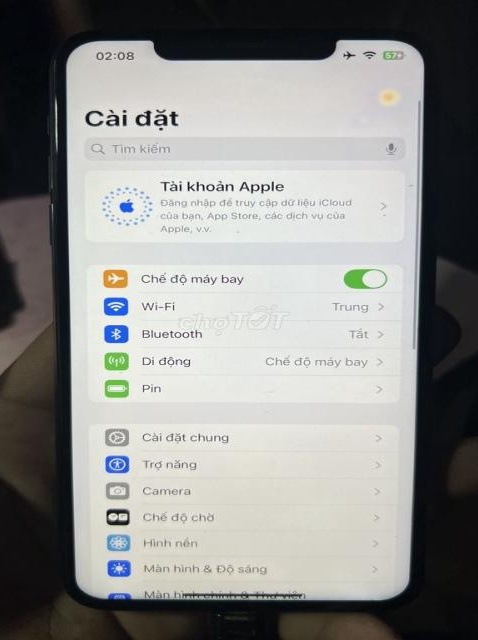scratch: (44, 85, 67, 153)
screen_defect: (377, 83, 403, 113)
